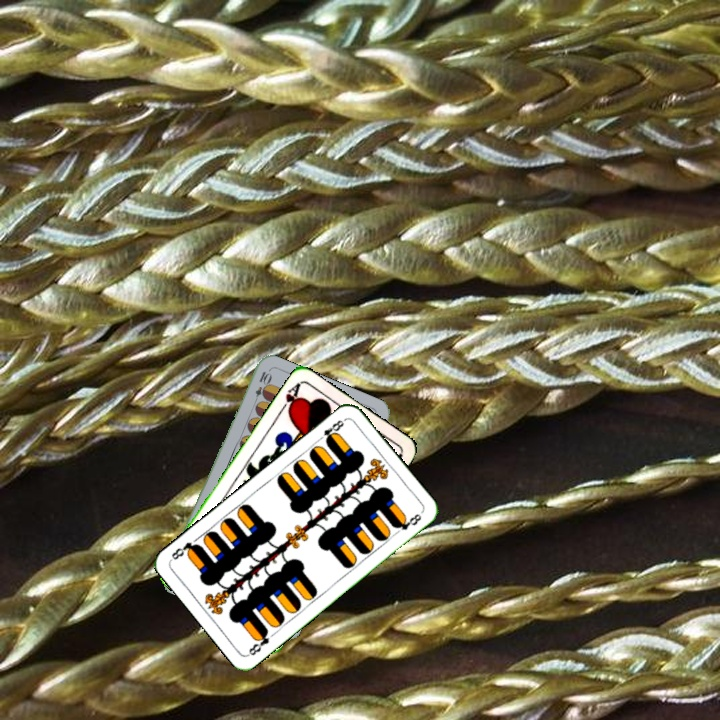E10: (250, 367, 273, 407)
E8: (313, 415, 348, 446), (244, 626, 272, 658)
HA: (275, 379, 303, 416)
